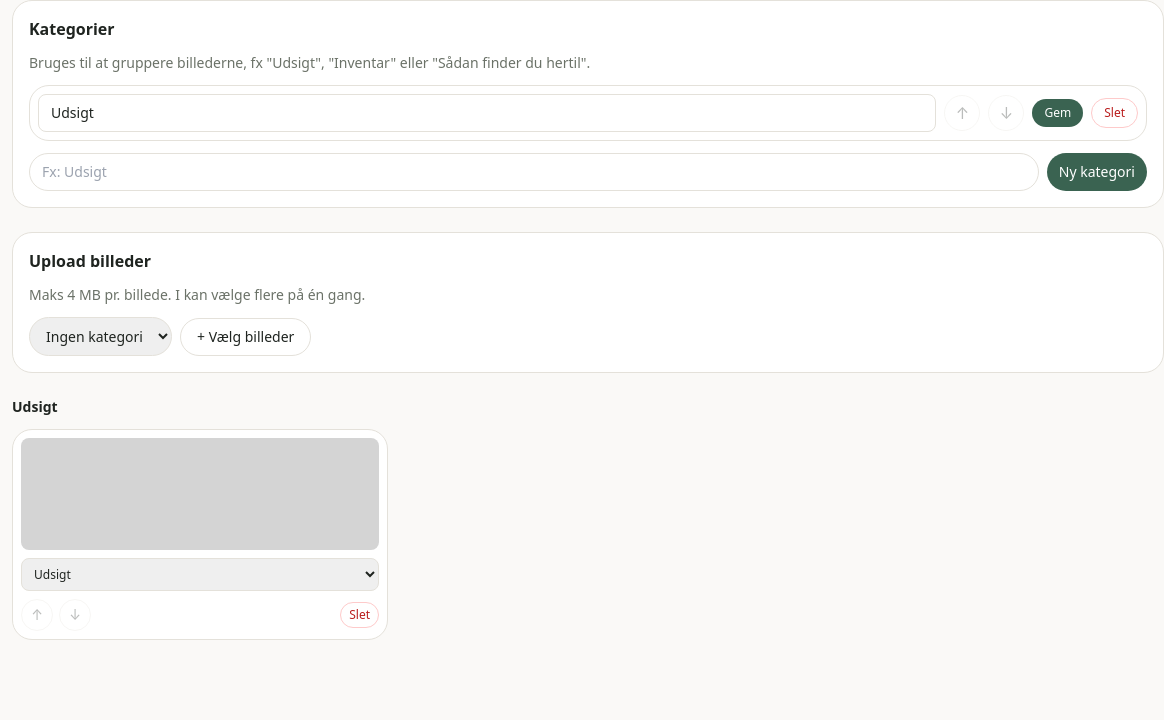
GalleryManager › sletter en kategori og gør dens billeder ukategoriserede
Click the 1st button "Slet" at coordinates (1115, 113), box top-left (1091, 98), bottom-right (1138, 128)
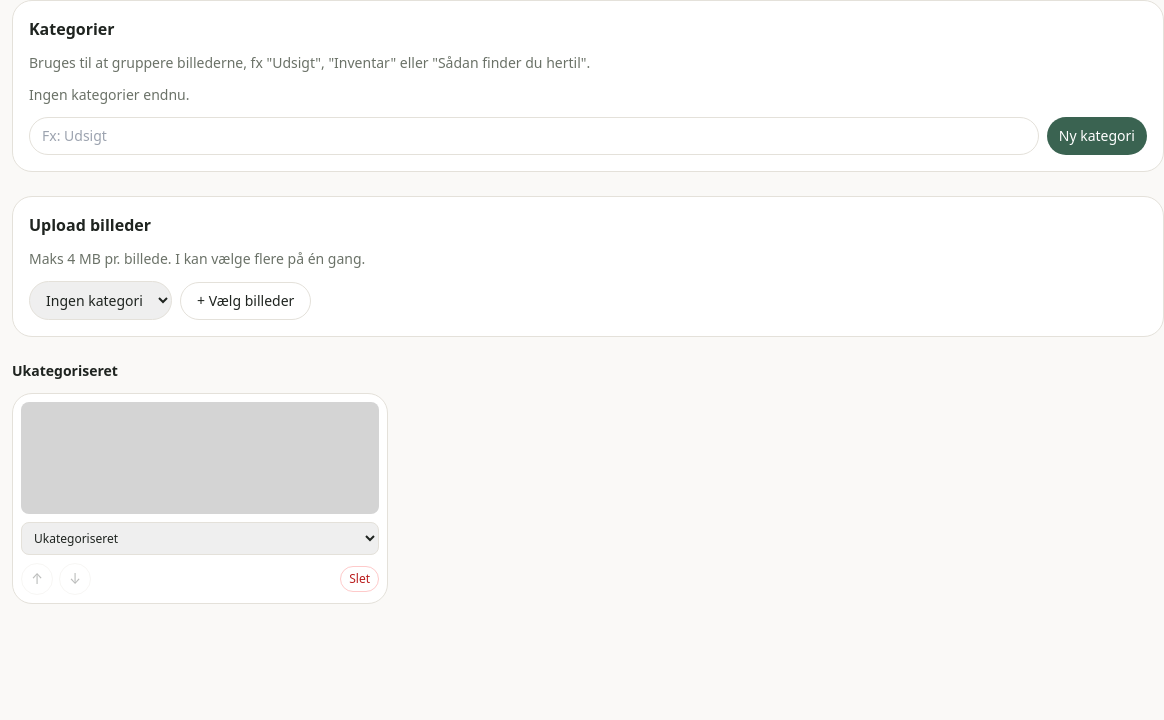
Expected: the heading "Ukategoriseret" is shown, top-left (12, 361), bottom-right (118, 380)
